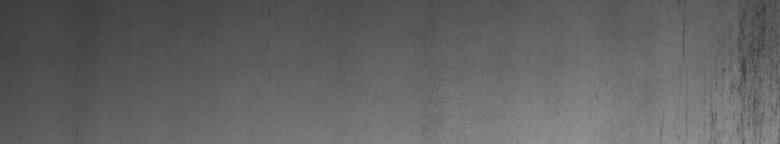ka: (683, 5, 776, 127)
